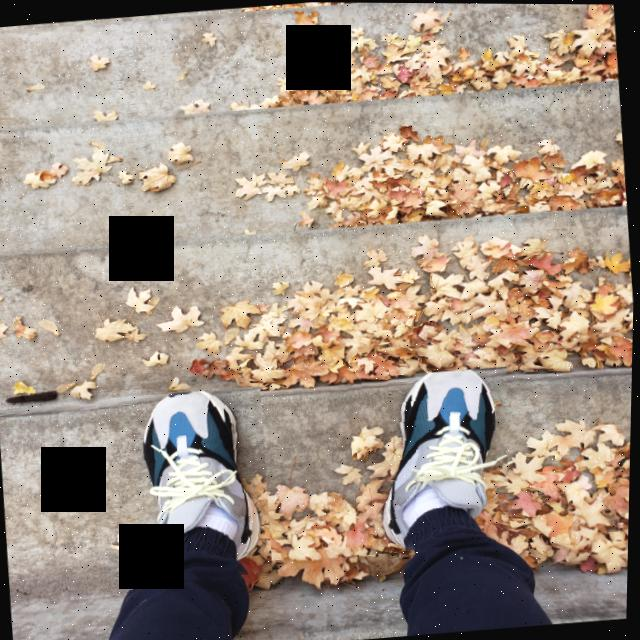shoe: (86, 385, 278, 594), (345, 365, 524, 557)
